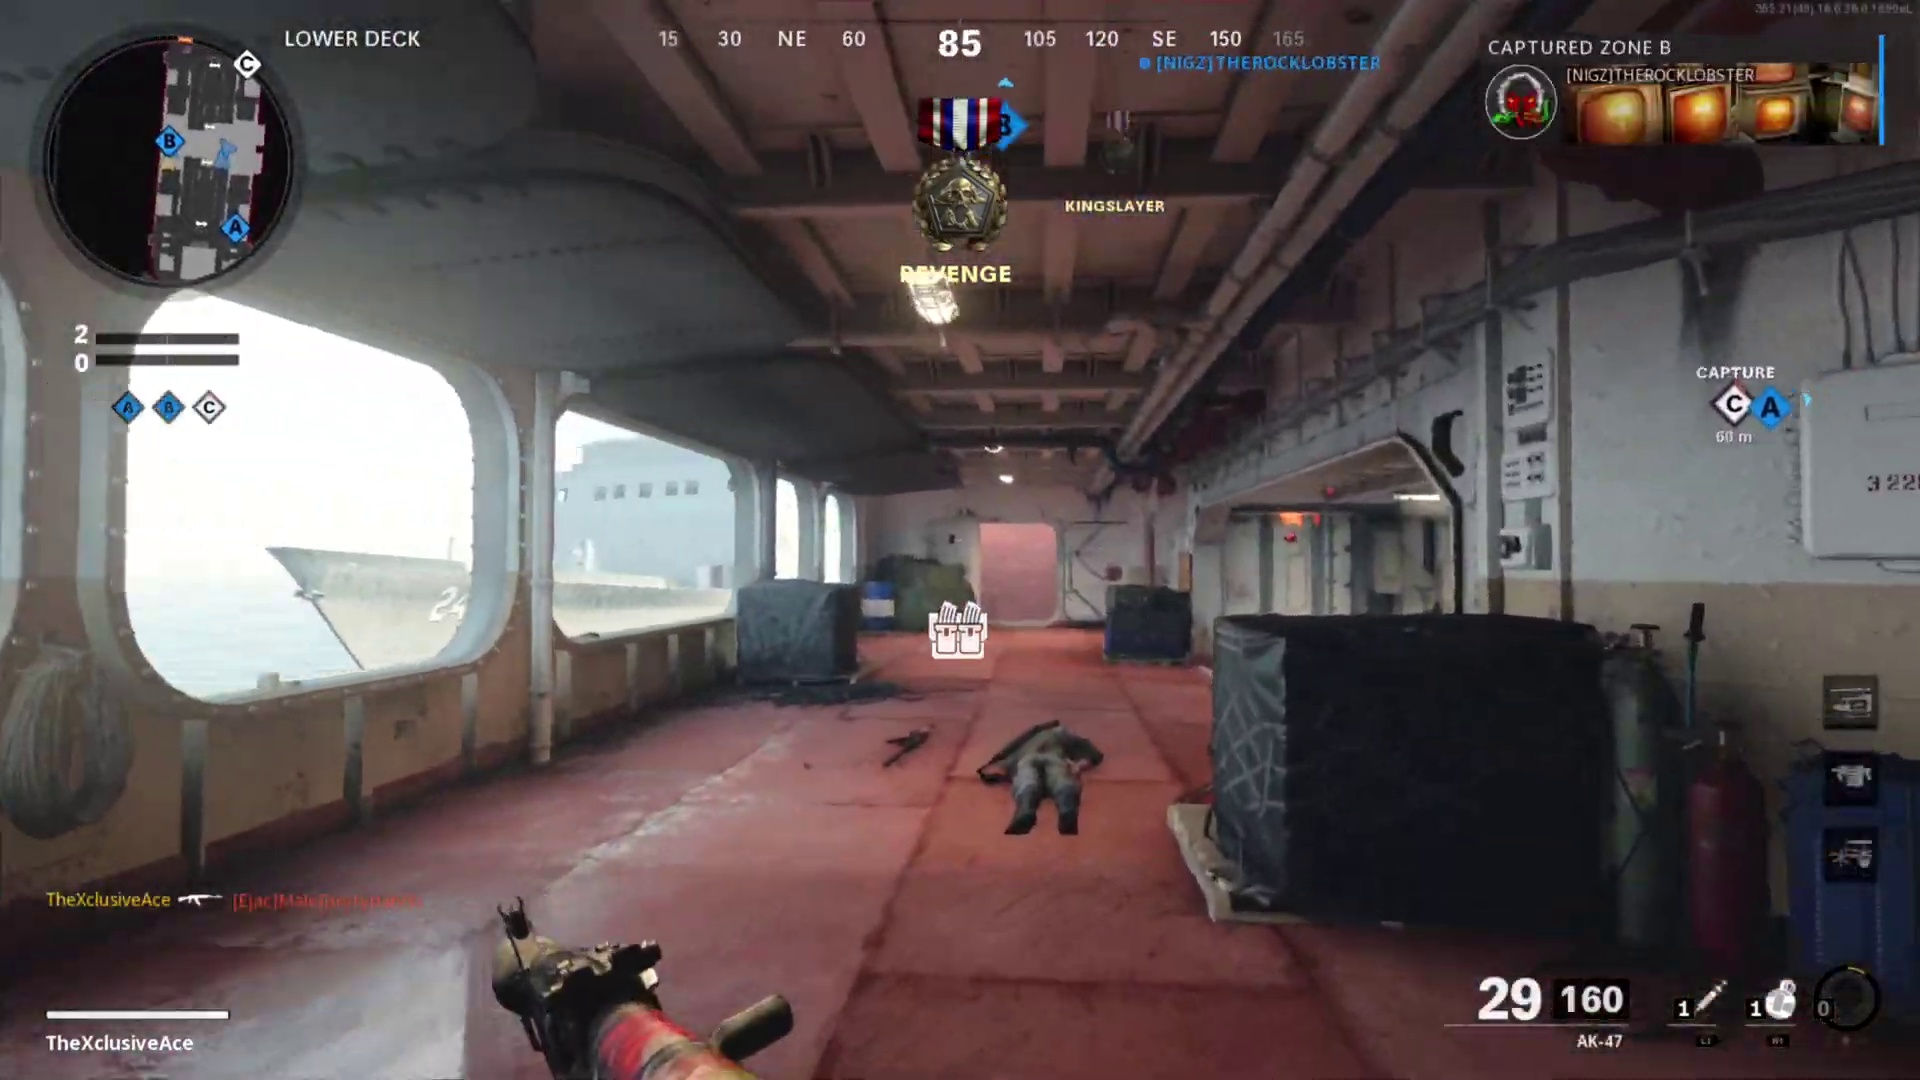person: (988, 715, 1101, 835)
